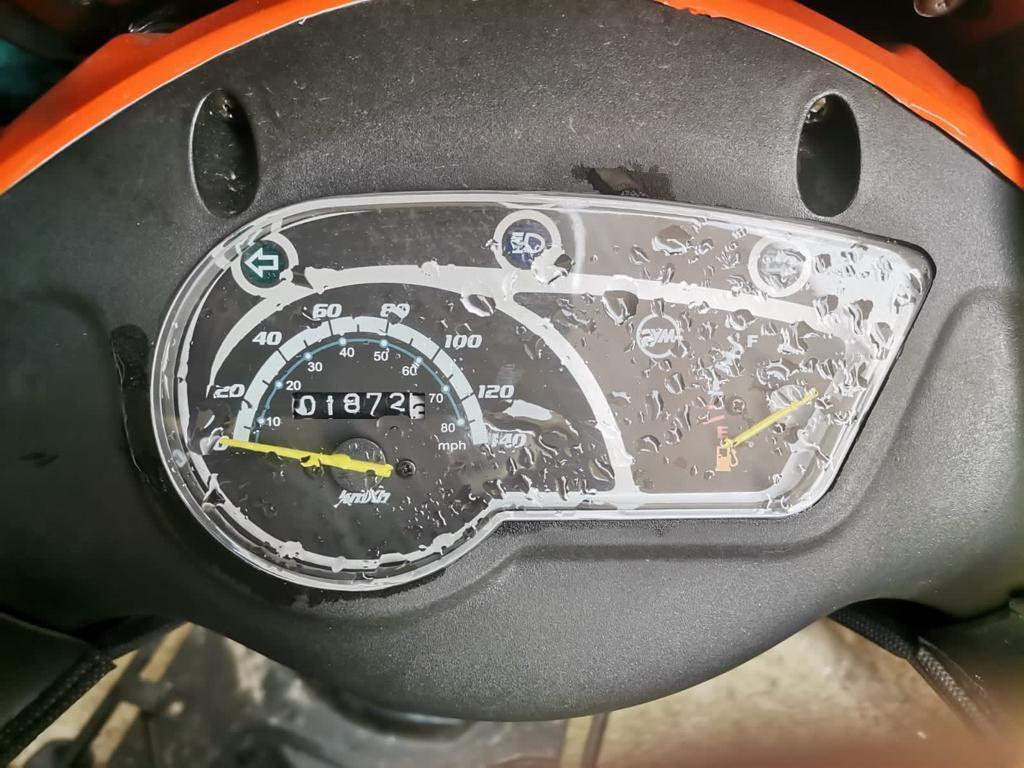0: (298, 394, 316, 416)
1: (326, 394, 334, 416)
2: (389, 392, 406, 413)
3: (411, 403, 426, 420)
7: (365, 391, 382, 415)
8: (343, 392, 360, 413)
odometer: (291, 390, 426, 421)
